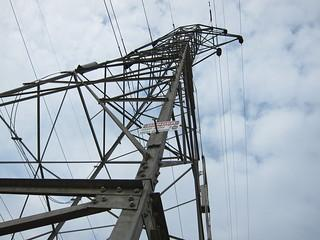power_tower: (0, 20, 245, 240)
